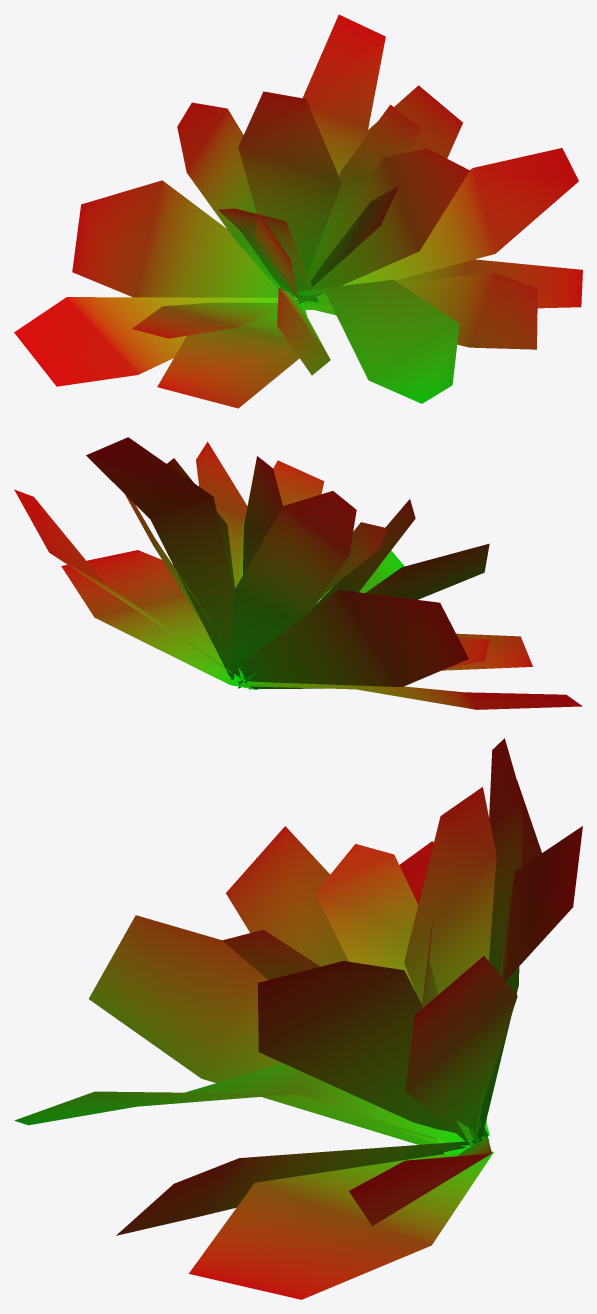
File: Var21_LOD2.fbx
3 views of the same model, one above another, from view 1: azimuth 30°, elevation 25°; view 2: azimuth 150°, elevation 25°; view 3: azimuth 270°, elevation 25° (orthographic). The views are drawn at different scales.
Visible parts, largest first — view 1: _1z3u_Var21_LOD2; view 2: _1z3u_Var21_LOD2; view 3: _1z3u_Var21_LOD2.
Boxes of the visible parts, <box> form: _1z3u_Var21_LOD2: <box>14,14,582,408</box>; _1z3u_Var21_LOD2: <box>14,437,582,709</box>; _1z3u_Var21_LOD2: <box>14,738,582,1299</box>.
Bounding box in the file's own units: 24.09 × 10.65 × 14.04.
